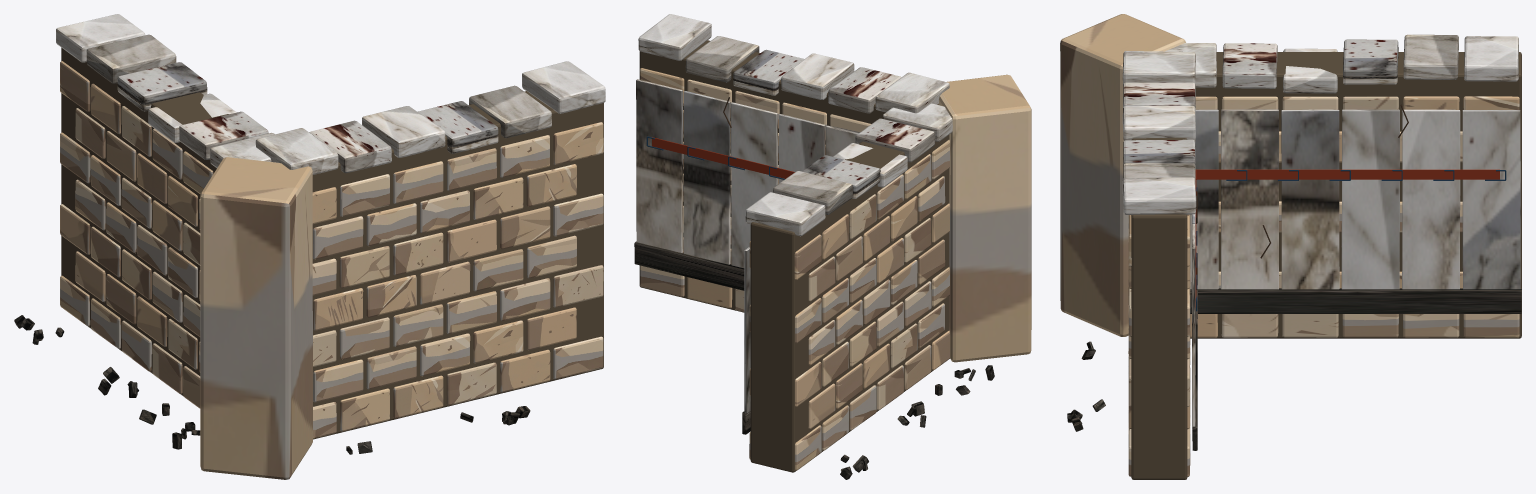
Rendered from ruin_wallrun_corner_inner_LOD0.glb.
3 renders of one model, left to right at view 1: azimuth 30°, elevation 25°; view 2: azimuth 150°, elevation 25°; view 3: azimuth 270°, elevation 25°, orthographic. The views are drawn at different scales.
Parts seen in each view (by area): view 1: OutsideCornerButtress, XWallrunCore, YWallrunCore, XBrokenCap.005, XBrokenCap.002, YBrokenCap.003, YBrokenCap.004, XBrokenCap.004, XBrokenCap.001, XBrokenCap, XBrokenCap.003, YBrokenCap.001 (+71 smaller); view 2: OutsideCornerButtress, YWallrunCore, XWallrunVeneer.005, XWallrunVeneer.004, XWallrunVeneer.003, XWallrunCore, XWallrunBaseBand, XBrokenCap.005, YBrokenCap.005, XWallrunVeneer.002, XBrokenCap.002, XBrokenCap.004 (+57 smaller); view 3: OutsideCornerButtress, XWallrunCore, YWallrunVeneer.005, YWallrunVeneer.002, YWallrunVeneer.004, YWallrunVeneer.003, YWallrunVeneer.001, YWallrunCore, YWallrunBaseBand, YWallrunVeneer, YFadedRunnerBand, XBrokenCap.005 (+24 smaller).
Part boxes in pixels (bbox=[...]): OutsideCornerButtress: bbox=[200, 157, 312, 479]; XWallrunCore: bbox=[312, 91, 603, 439]; YWallrunCore: bbox=[61, 47, 228, 396]; XBrokenCap.005: bbox=[522, 61, 605, 113]; XBrokenCap.002: bbox=[362, 106, 445, 157]; YBrokenCap.003: bbox=[117, 62, 207, 111]; YBrokenCap.004: bbox=[86, 34, 176, 83]; XBrokenCap.004: bbox=[469, 85, 551, 138]; XBrokenCap.001: bbox=[309, 120, 391, 173]; XBrokenCap: bbox=[255, 128, 338, 174]; XBrokenCap.003: bbox=[417, 101, 498, 153]; YBrokenCap.001: bbox=[179, 111, 268, 159]; OutsideCornerButtress: bbox=[939, 74, 1031, 362]; YWallrunCore: bbox=[750, 135, 949, 472]; XWallrunVeneer.005: bbox=[636, 79, 683, 252]; XWallrunVeneer.004: bbox=[683, 91, 730, 264]; XWallrunVeneer.003: bbox=[731, 102, 777, 268]; XWallrunCore: bbox=[639, 40, 939, 312]; XWallrunBaseBand: bbox=[634, 241, 744, 290]; XBrokenCap.005: bbox=[638, 14, 711, 60]; YBrokenCap.005: bbox=[745, 192, 825, 236]; XWallrunVeneer.002: bbox=[778, 114, 825, 183]; XBrokenCap.002: bbox=[781, 53, 854, 99]; XBrokenCap.004: bbox=[685, 36, 759, 82]; OutsideCornerButtress: bbox=[1060, 14, 1185, 336]; XWallrunCore: bbox=[1131, 138, 1187, 479]; YWallrunVeneer.005: bbox=[1462, 110, 1520, 289]; YWallrunVeneer.002: bbox=[1281, 109, 1339, 289]; YWallrunVeneer.004: bbox=[1402, 109, 1460, 289]; YWallrunVeneer.003: bbox=[1341, 109, 1399, 289]; YWallrunVeneer.001: bbox=[1221, 109, 1278, 289]; YWallrunCore: bbox=[1190, 52, 1521, 338]; YWallrunBaseBand: bbox=[1190, 288, 1521, 313]; YWallrunVeneer: bbox=[1190, 109, 1218, 289]; YFadedRunnerBand: bbox=[1196, 169, 1499, 179]; XBrokenCap.005: bbox=[1122, 177, 1196, 214].
Size of the model in its own units: 3.82 by 2.61 by 3.82.
9 materials, 3 textured.
